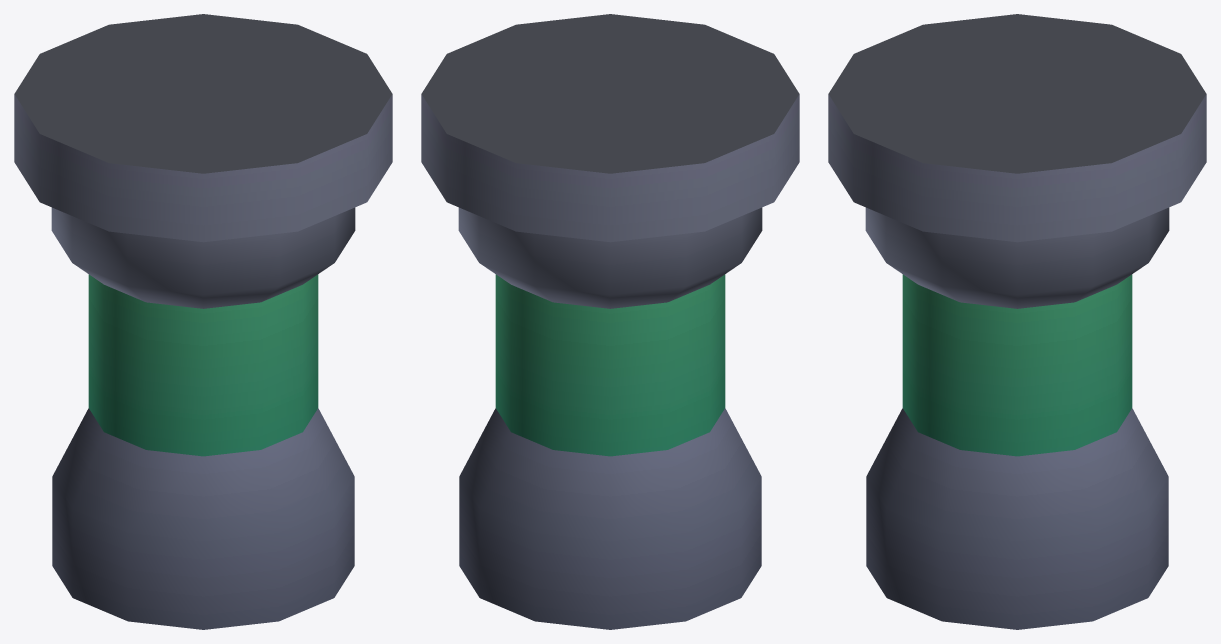
File: kenney-column.95c36be9.glb
3 views of the same model, side by side, from view 1: azimuth 30°, elevation 25°; view 2: azimuth 150°, elevation 25°; view 3: azimuth 270°, elevation 25° (orthographic).
Parts seen in each view (by area): view 1: column; view 2: column; view 3: column.
Boxes of the visible parts, x1=… form: column: x1=14, y1=14, x2=392, y2=629; column: x1=421, y1=14, x2=799, y2=629; column: x1=828, y1=14, x2=1206, y2=629.
Bounding box in the file's own units: 0.7258 × 1 × 0.7258.
1 material, 1 textured.
